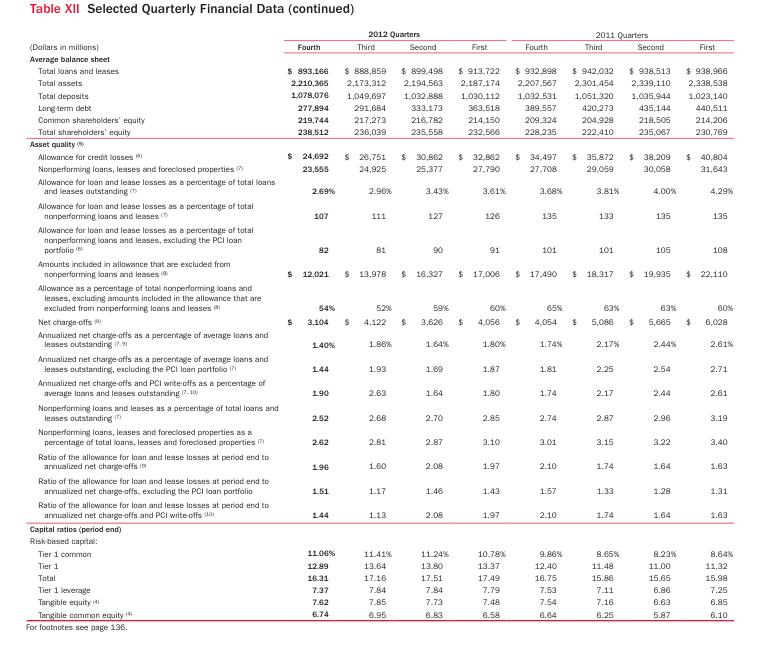table: (29, 28, 732, 618)
table column: (29, 28, 282, 618), (338, 28, 395, 618), (395, 28, 452, 618), (452, 28, 509, 618), (509, 28, 566, 618), (566, 28, 623, 618), (623, 28, 680, 618), (282, 28, 338, 618), (680, 28, 732, 618)
table column header: (29, 28, 732, 52)
table projected row header: (29, 521, 732, 534), (29, 52, 732, 64), (29, 137, 732, 149), (29, 534, 732, 546)
table row: (29, 222, 732, 256), (29, 280, 732, 314), (29, 197, 732, 222), (29, 399, 732, 424), (29, 472, 732, 497), (29, 256, 732, 280), (29, 327, 732, 351), (29, 351, 732, 375), (29, 375, 732, 399), (29, 424, 732, 448), (29, 448, 732, 472), (29, 497, 732, 521), (29, 174, 732, 197), (29, 39, 732, 52), (29, 100, 732, 113), (29, 161, 732, 174), (29, 314, 732, 327), (29, 521, 732, 534), (29, 558, 732, 571), (29, 52, 732, 64), (29, 64, 732, 76), (29, 76, 732, 88), (29, 88, 732, 100), (29, 113, 732, 125), (29, 125, 732, 137), (29, 137, 732, 149), (29, 149, 732, 161), (29, 534, 732, 546), (29, 546, 732, 558), (29, 571, 732, 583), (29, 583, 732, 595), (29, 595, 732, 607), (29, 28, 732, 39), (29, 607, 732, 618)
table spanning cell: (29, 28, 282, 52), (282, 28, 509, 39), (509, 28, 732, 39)
